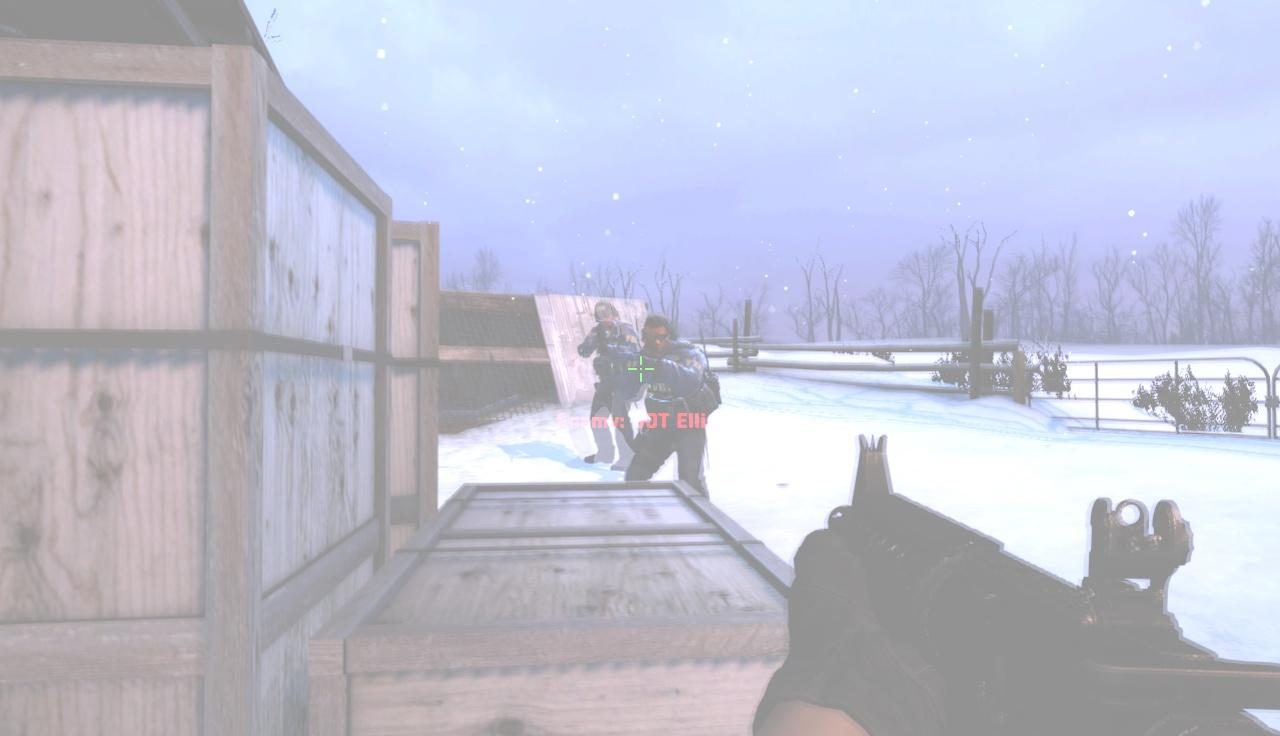ct: (637, 314, 711, 489), (590, 300, 637, 465)
cthead: (643, 315, 673, 355), (593, 301, 619, 330)
rifle: (811, 426, 1280, 736)
